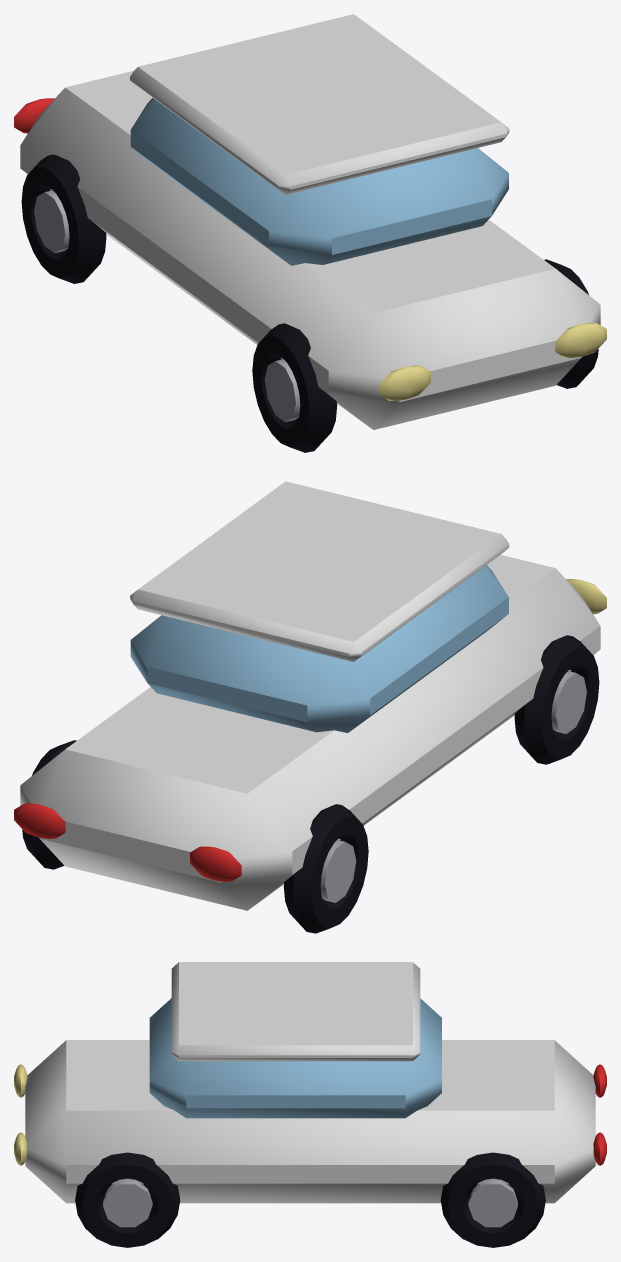
Rendered from car.glb.
3 views of the same model, one above another, from view 1: azimuth 30°, elevation 25°; view 2: azimuth 150°, elevation 25°; view 3: azimuth 270°, elevation 25° (orthographic). The views are drawn at different scales.
Parts seen in each view (by area): view 1: car; view 2: car; view 3: car.
Part boxes in pixels (bbox=[...]): car: bbox=[14, 14, 606, 452]; car: bbox=[14, 481, 606, 933]; car: bbox=[14, 962, 606, 1247].
Size of the model in its own units: 1.82 by 1.46 by 4.06.
